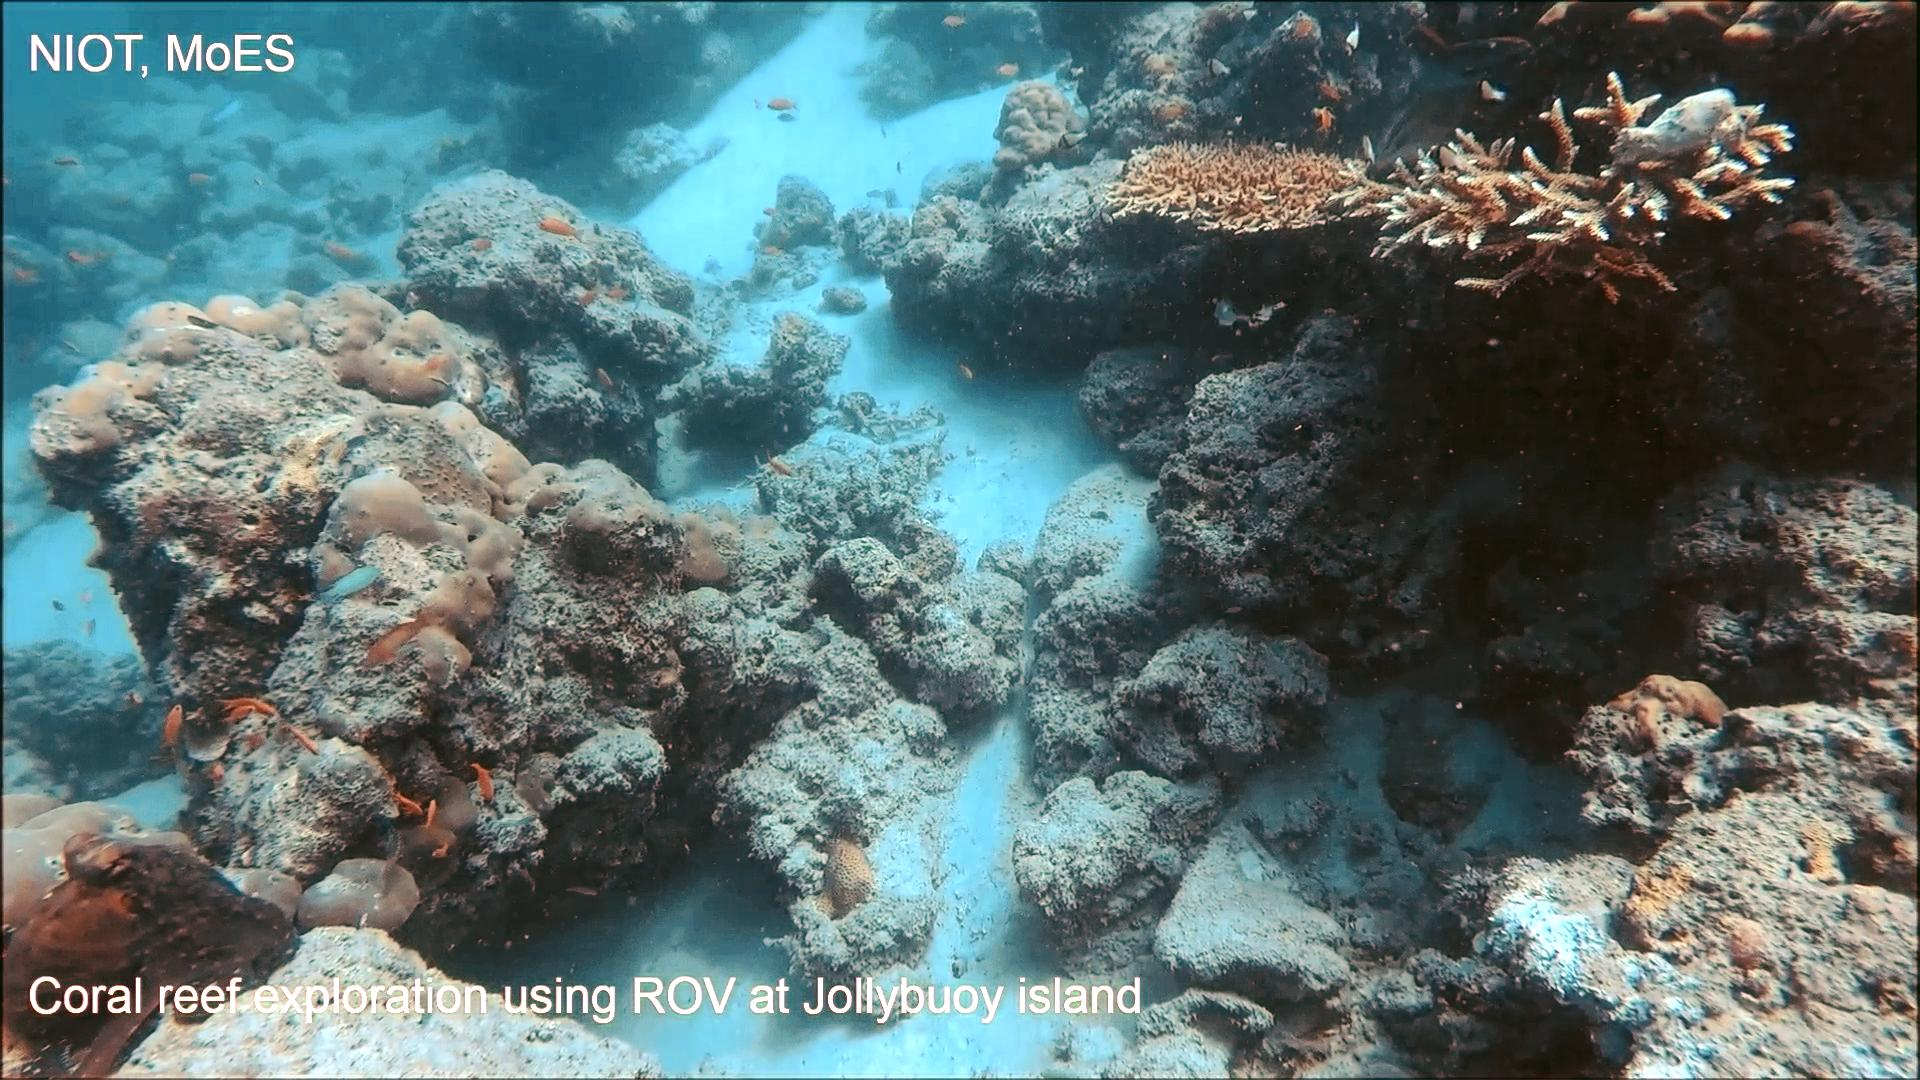Porites-Porites pukoensis: (275, 274, 579, 697)
